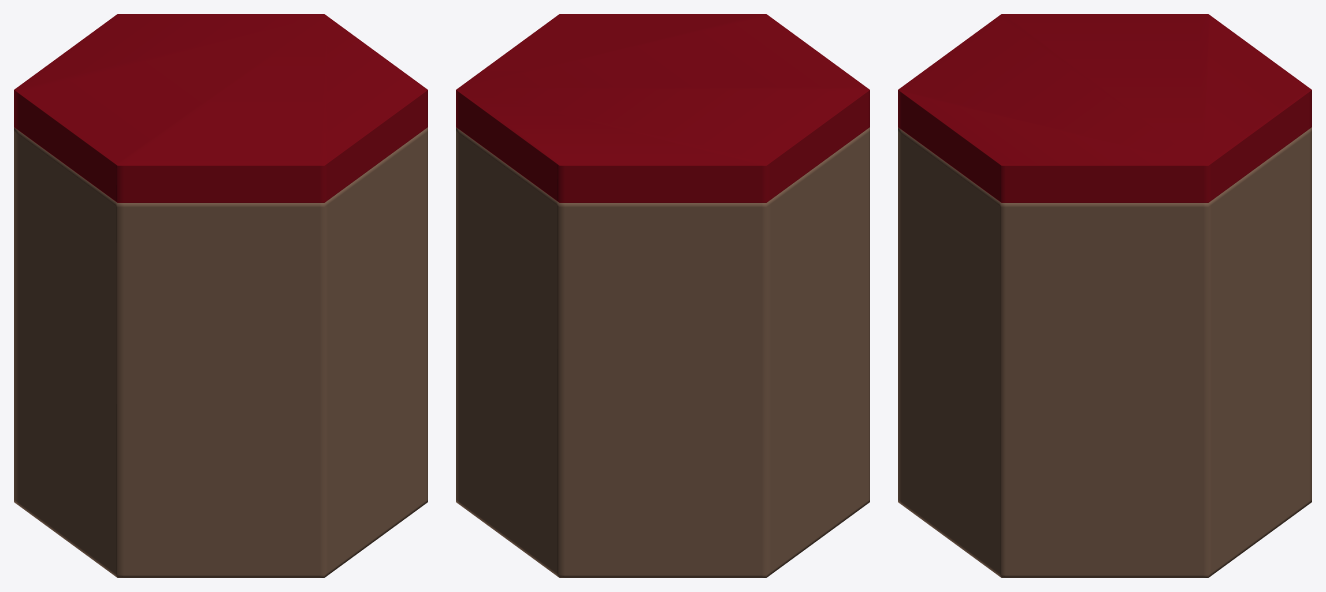
Rendered from antagonist_spawn.fbx.
The picture shows the model from 3 angles, left to right: view 1: azimuth 30°, elevation 25°; view 2: azimuth 150°, elevation 25°; view 3: azimuth 270°, elevation 25°; orthographic projection.
Visible parts, largest first — view 1: Cylinder, Cylinder.001; view 2: Cylinder, Cylinder.001; view 3: Cylinder, Cylinder.001.
Boxes of the visible parts, <box> form: Cylinder: <box>14,127,427,577</box>; Cylinder.001: <box>14,14,427,202</box>; Cylinder: <box>456,127,869,577</box>; Cylinder.001: <box>456,14,869,202</box>; Cylinder: <box>898,127,1311,577</box>; Cylinder.001: <box>898,14,1311,202</box>.
Size of the model in its own units: 173 by 220 by 200.
